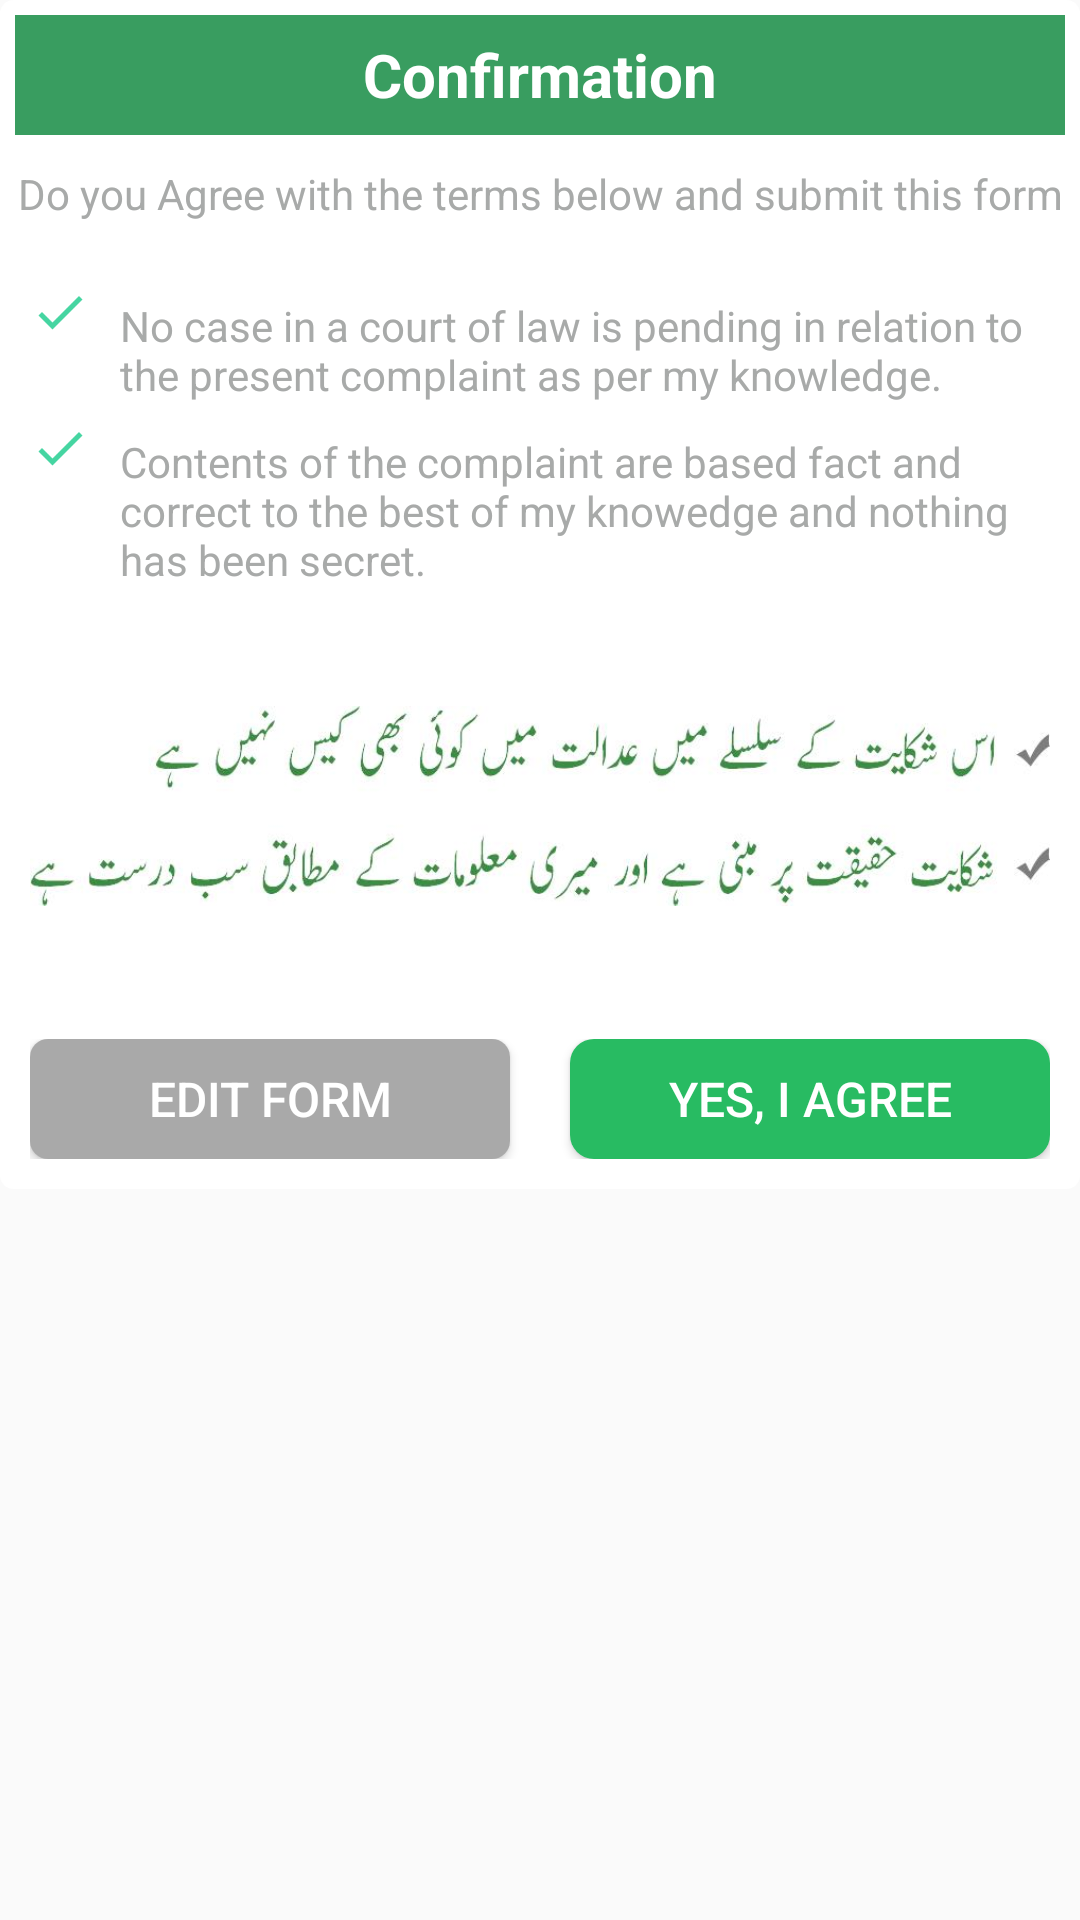

Screen size 1080 × 1920. Icon name, then its center in pixels as (x,y):
tick: (60,313), (60,449)
